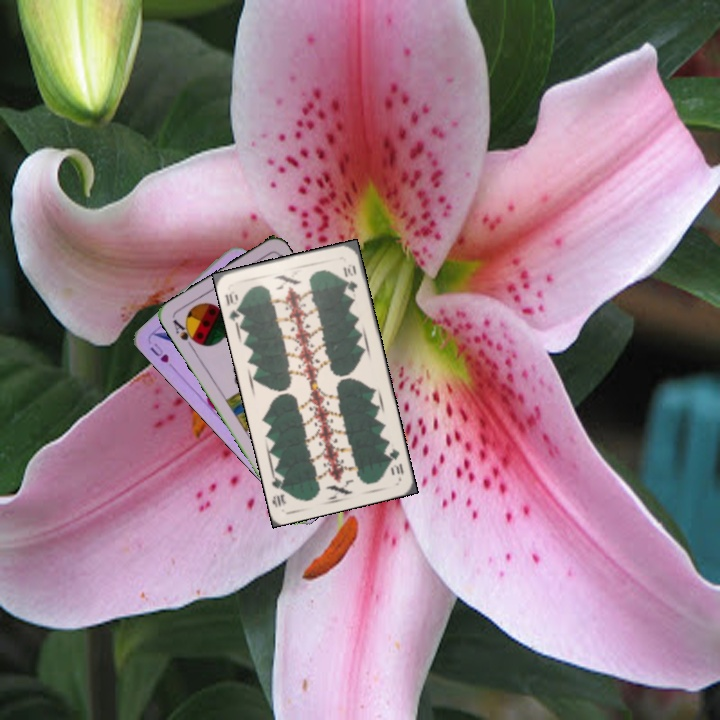G10: (221, 289, 247, 326), (383, 444, 406, 478)
HU: (146, 339, 177, 372)
SA: (169, 315, 201, 351)
